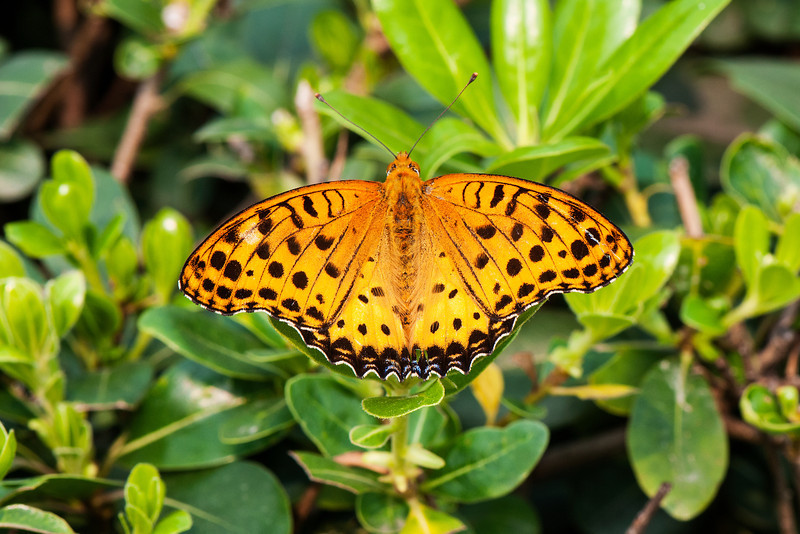Argyreus hyperbius: (170, 60, 638, 378)
butterfly: (172, 62, 640, 380)
